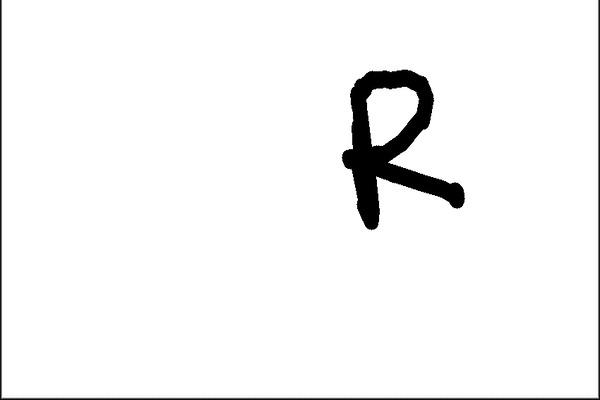R: (329, 65, 475, 236)
